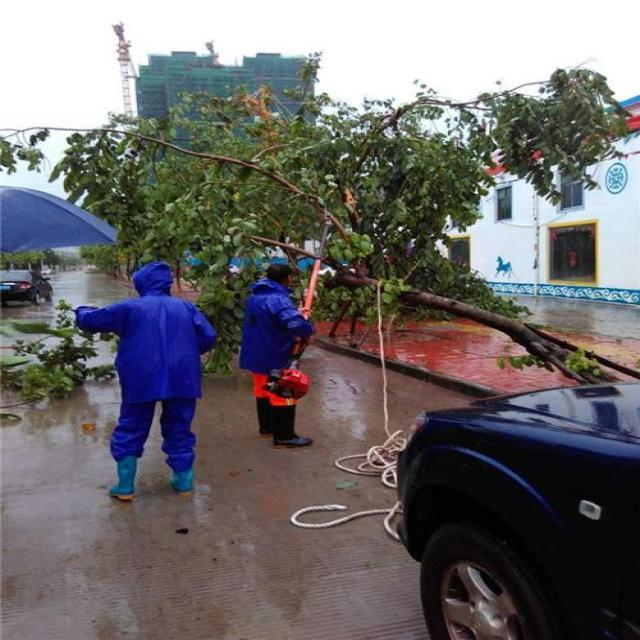fallen_object: (51, 66, 640, 387)
